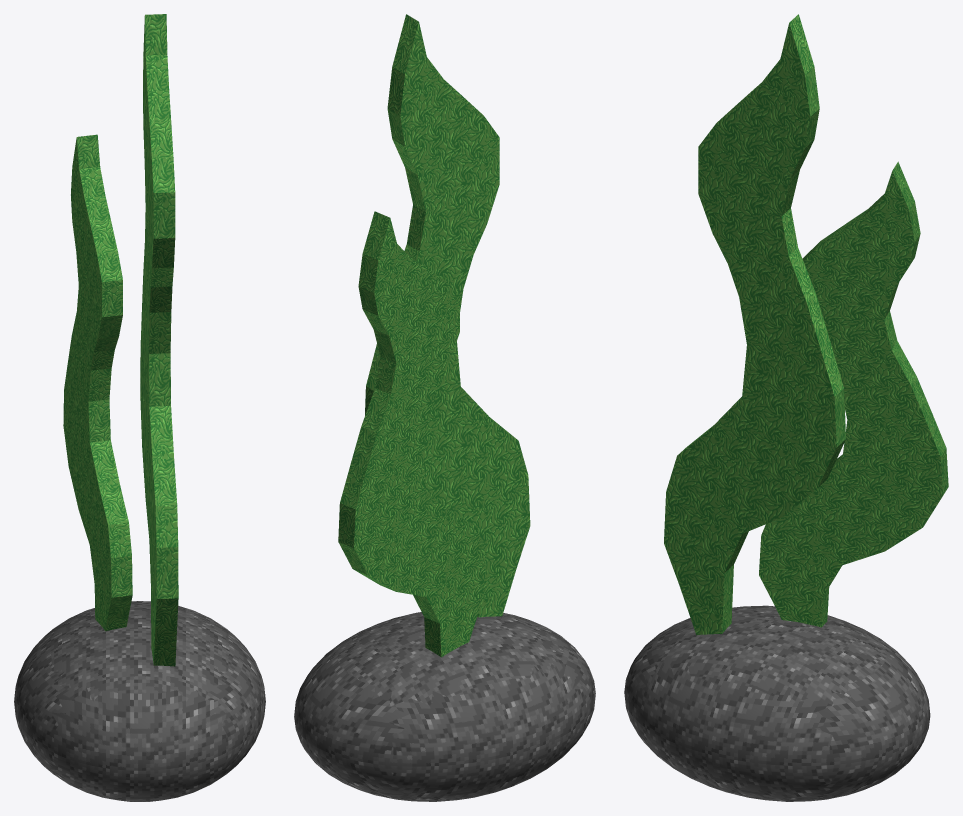
File: KelpV2.obj
3 renders of one model, left to right at view 1: azimuth 30°, elevation 25°; view 2: azimuth 150°, elevation 25°; view 3: azimuth 270°, elevation 25°, orthographic. The views are drawn at different scales.
Parts seen in each view (by area): view 1: KelpBase, Kelp, Kelp (1); view 2: KelpBase, Kelp, Kelp (1); view 3: Kelp (1), KelpBase, Kelp.
Boxes of the visible parts, bbox=[...] form: KelpBase: bbox=[14, 601, 265, 801]; Kelp: bbox=[63, 134, 132, 631]; Kelp (1): bbox=[140, 14, 178, 666]; KelpBase: bbox=[294, 612, 595, 801]; Kelp: bbox=[338, 211, 486, 657]; Kelp (1): bbox=[365, 14, 530, 617]; Kelp (1): bbox=[664, 14, 845, 635]; KelpBase: bbox=[624, 605, 930, 801]; Kelp: bbox=[759, 161, 948, 627].
Bounding box in the file's own units: 3.67 × 11.41 × 4.32.
Materials: 2 (2 with a texture image).
